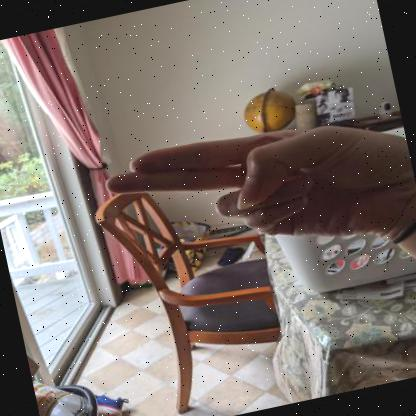H: (107, 122, 416, 259)
